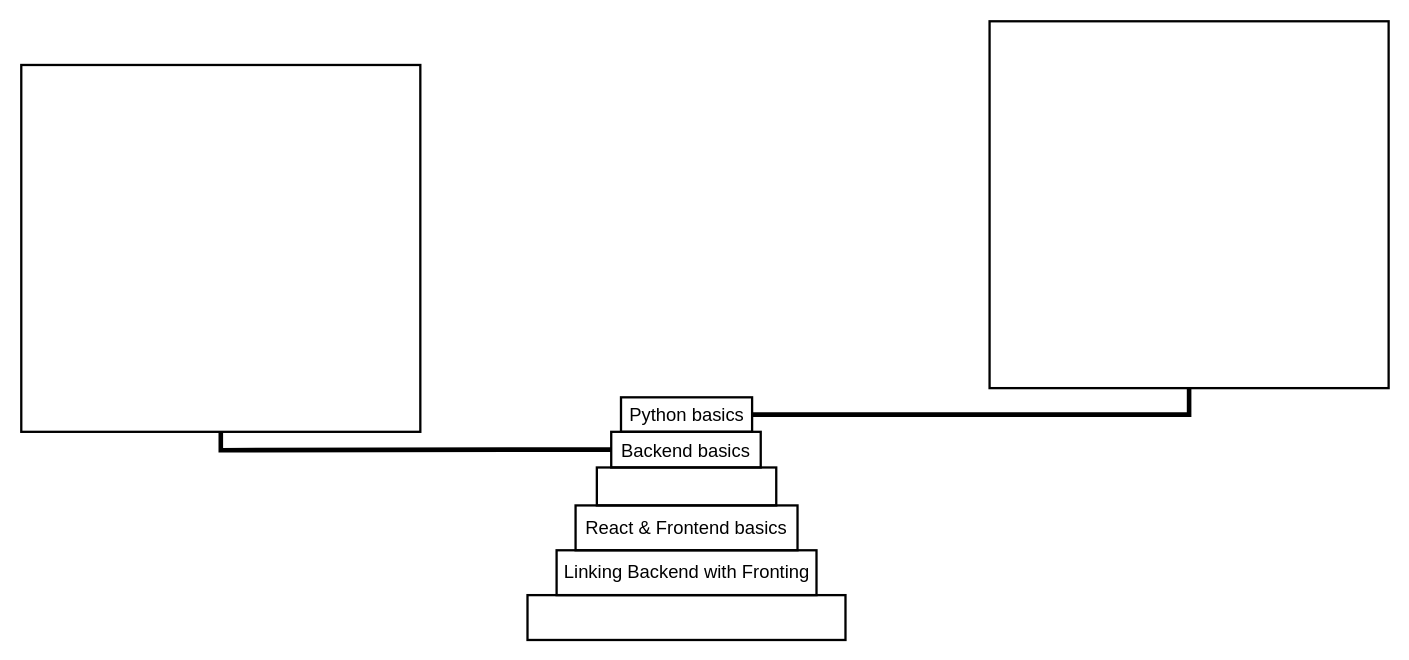
This 1409x660 diagram has some shape labels left out. The shapes that lost their labels are listed below. From the top down, each one's centre as x and y in pixels, then its label:
At [686,486]: "Advanced Backend".
At [686,617]: "Data management and cloud storage".
